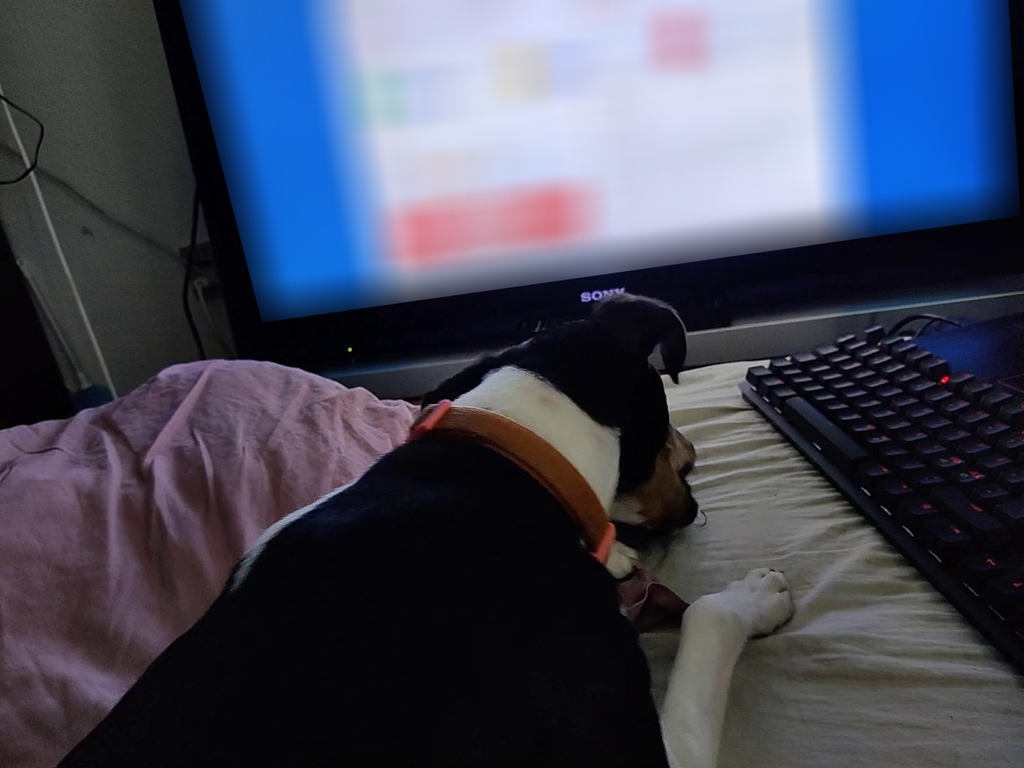Dog: (38, 280, 823, 768)
